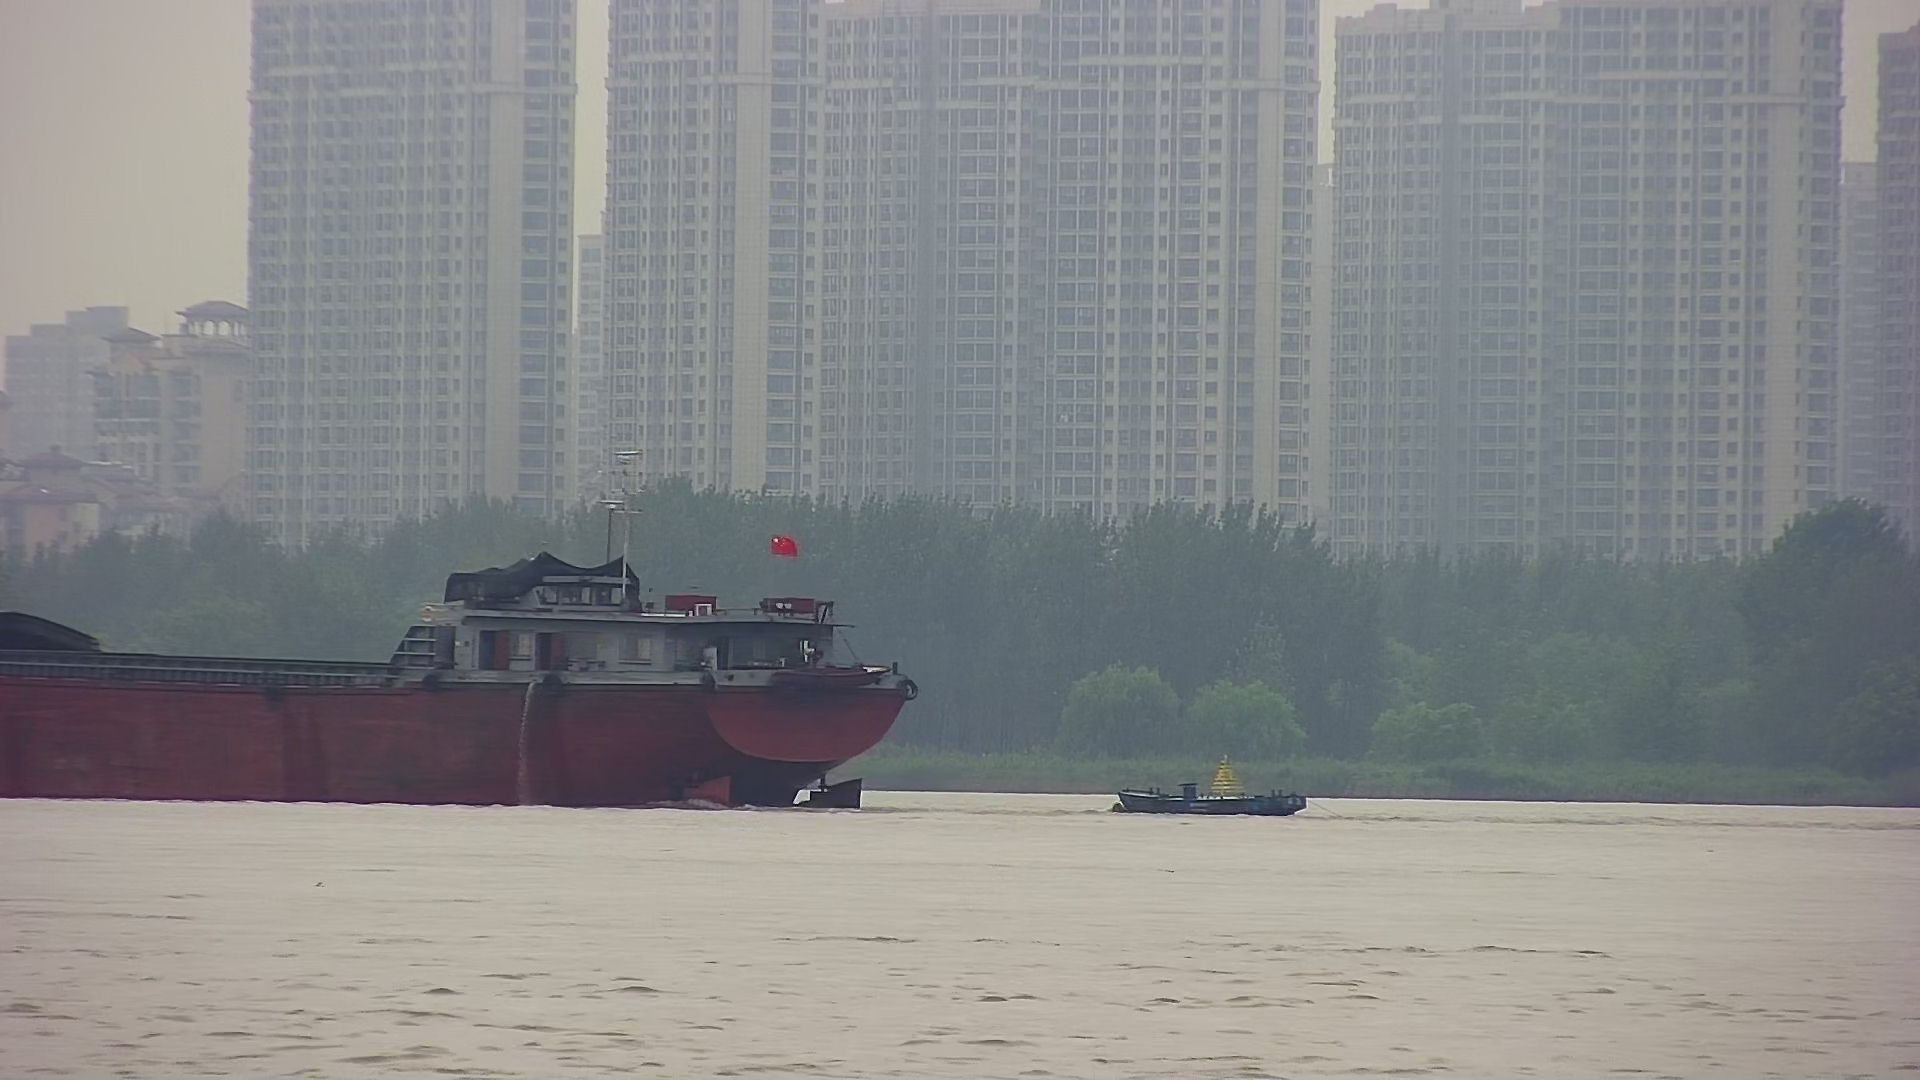boat: (1116, 746, 1308, 822)
ship: (4, 556, 915, 812)
